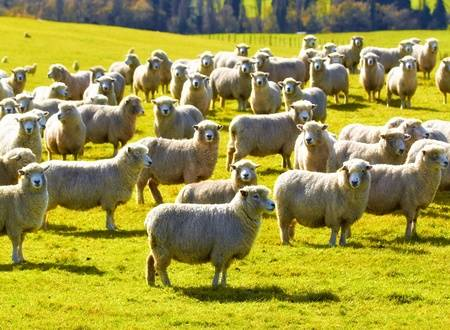sheep: (145, 185, 279, 294), (43, 142, 153, 231), (270, 158, 374, 247), (373, 146, 450, 238), (1, 161, 55, 270), (228, 99, 316, 161), (154, 117, 223, 185), (82, 93, 147, 146), (42, 102, 90, 157), (335, 131, 410, 166), (292, 121, 334, 172), (385, 54, 421, 111), (148, 97, 201, 134), (308, 55, 354, 97), (210, 58, 252, 104), (246, 69, 283, 114), (357, 50, 387, 101), (280, 77, 328, 103), (178, 73, 212, 107)
